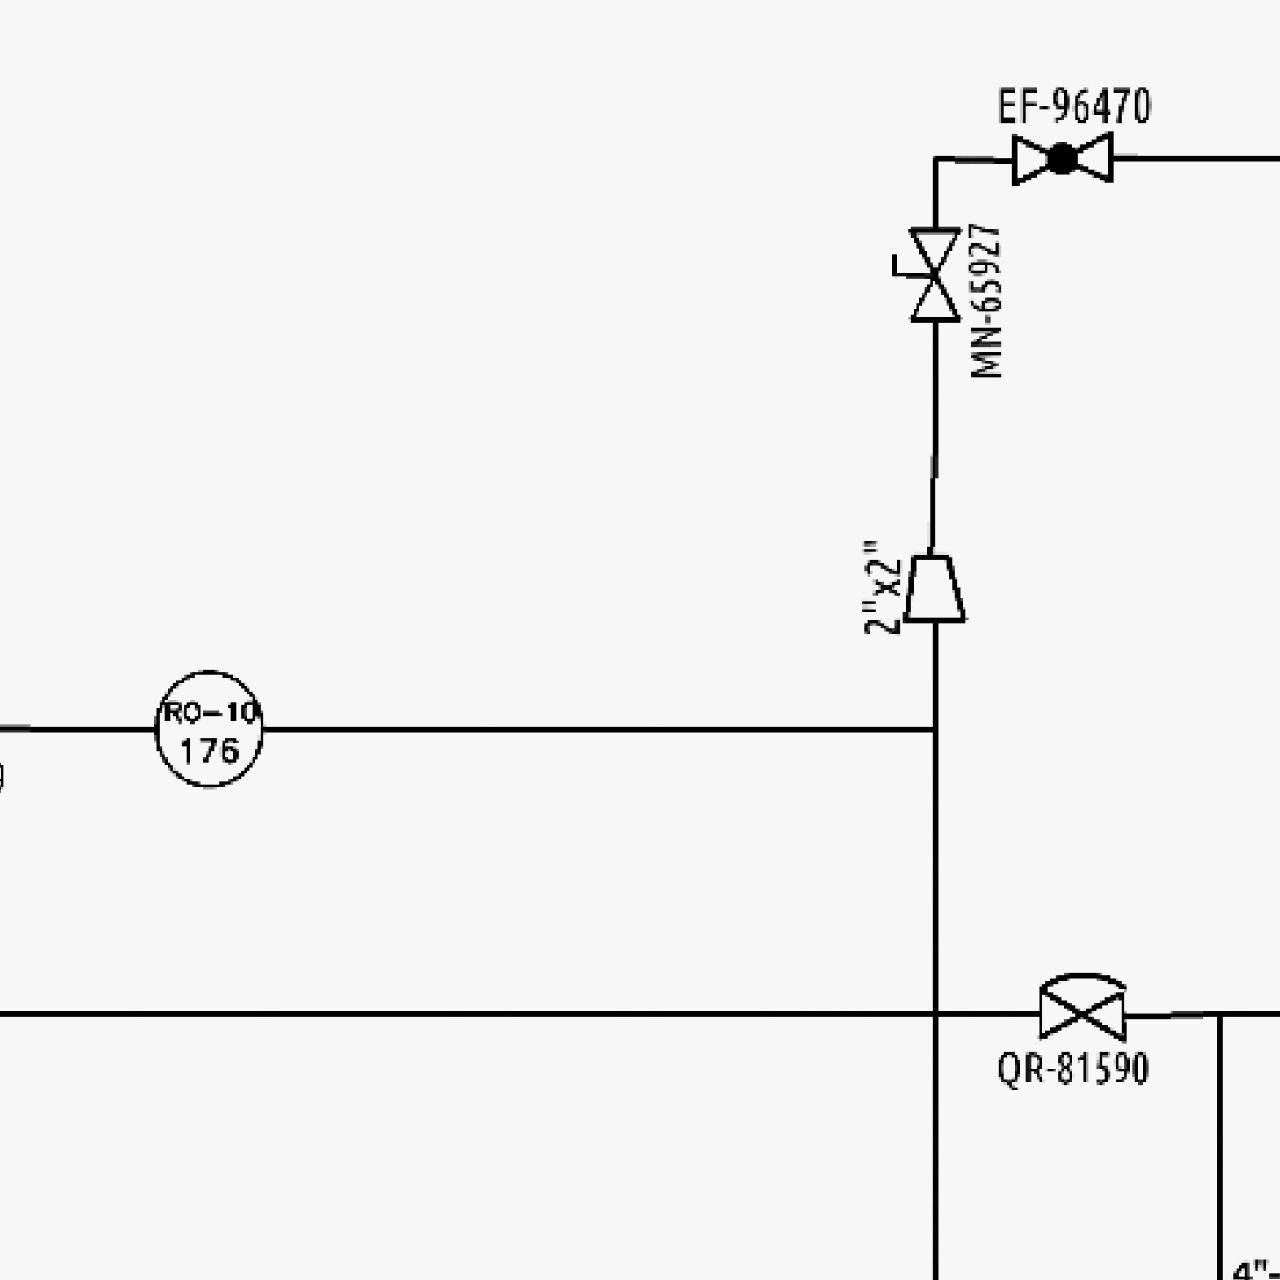Control-Panel: (145, 663, 272, 791)
